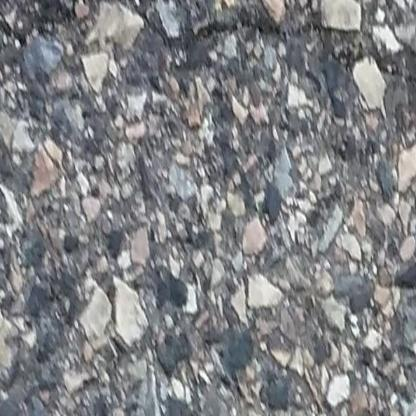Cracks: (0, 0, 416, 103)
